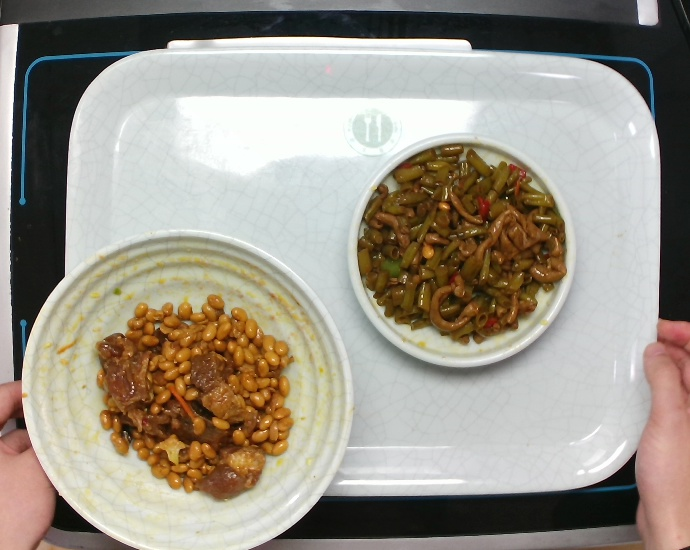JYsf-Da_Tang_Wan: (19, 226, 357, 550)
JYsf-Xiao_Yuan_Pan: (344, 131, 579, 370)
